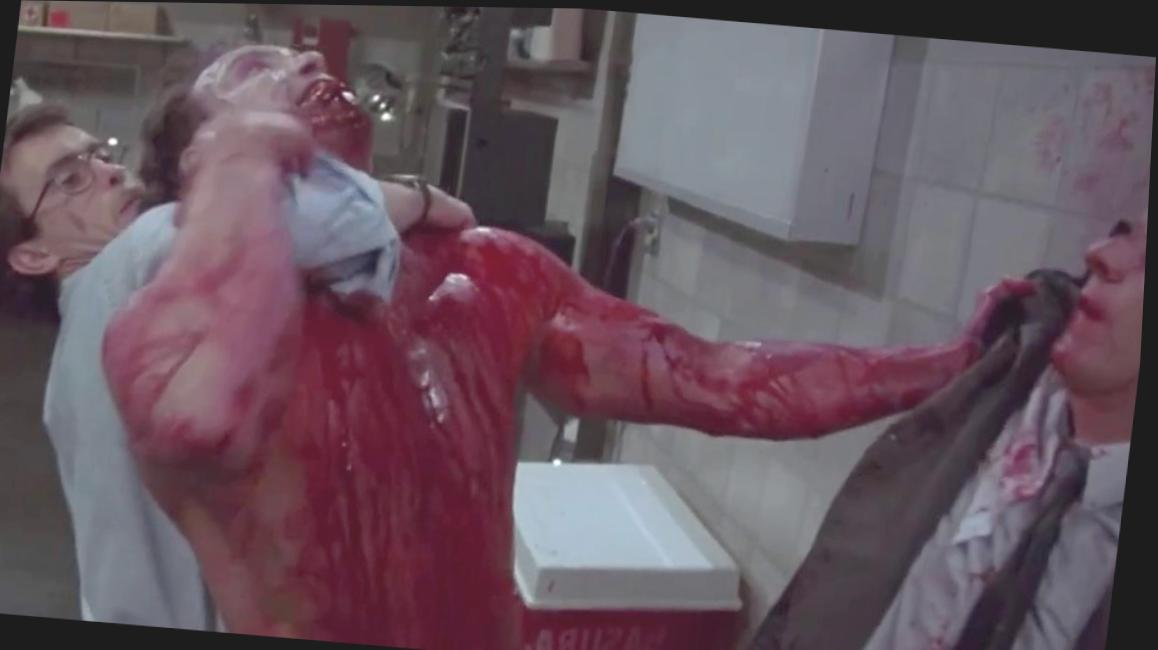Fire: (105, 227, 1032, 650), (1057, 262, 1145, 409), (297, 72, 373, 170), (1001, 425, 1072, 498), (869, 604, 975, 650)
